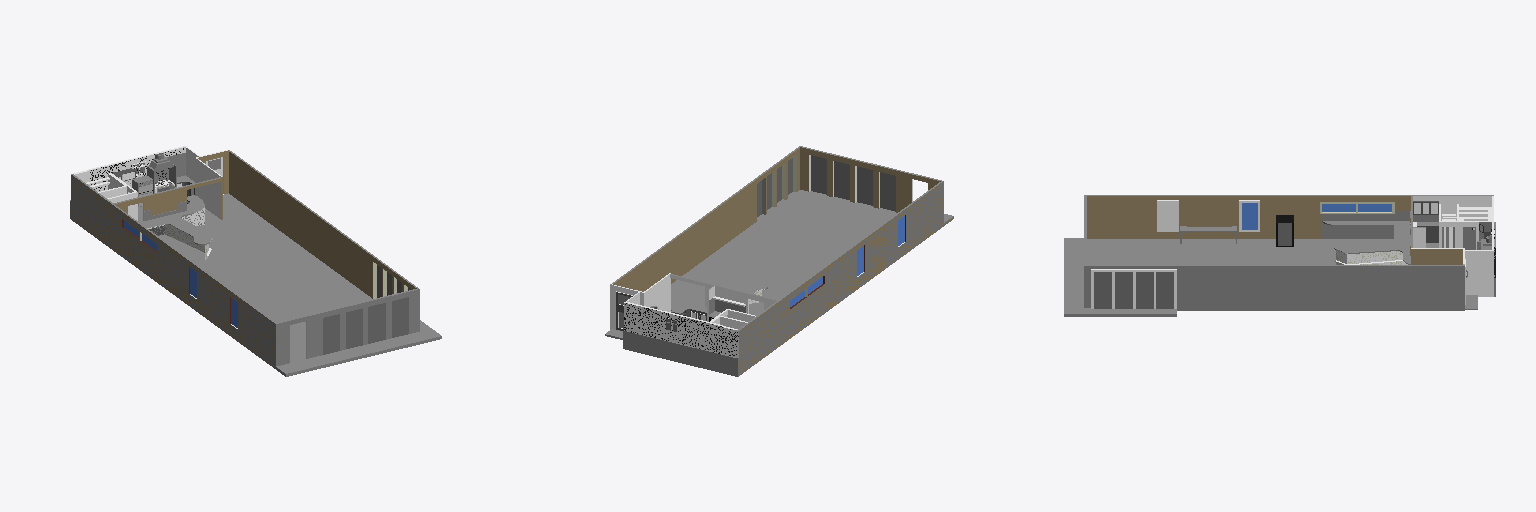
The model's file is cafe.obj.
3 renders of one model, left to right at view 1: azimuth 30°, elevation 25°; view 2: azimuth 150°, elevation 25°; view 3: azimuth 270°, elevation 25°, orthographic.
Bounding box in the file's own units: 10.01 × 2.82 × 24.02.